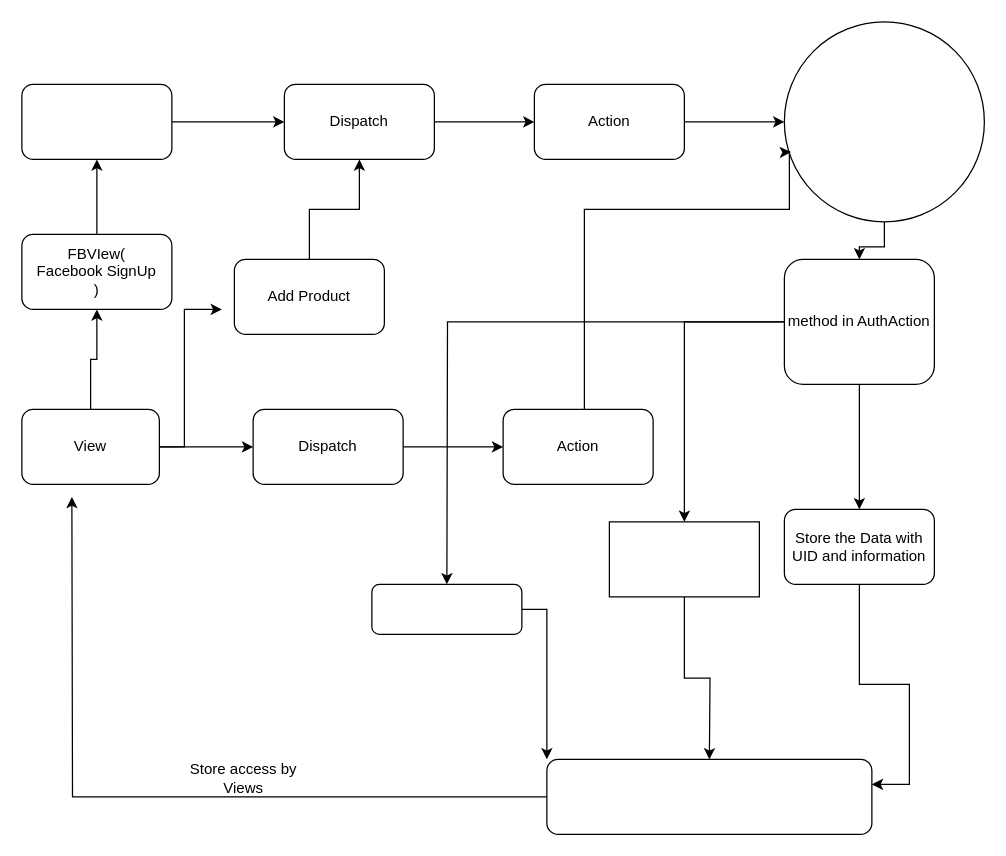
Some shapes in this 1006 by 856 pixel diagram are drawn without their labels. Each missing label, with the centre of its shape:
"Fetch Data from database" belongs at (683,559).
"patch" belongs at (446,608).
"Save Data in store and async Storage" belongs at (709,796).
"Type:LoginFb {UID,Name,Picture} Type:fetchData {UID} Type:Addproduct {UID}" belongs at (883,121).
"UID,Name,Picture" belongs at (96,121).
